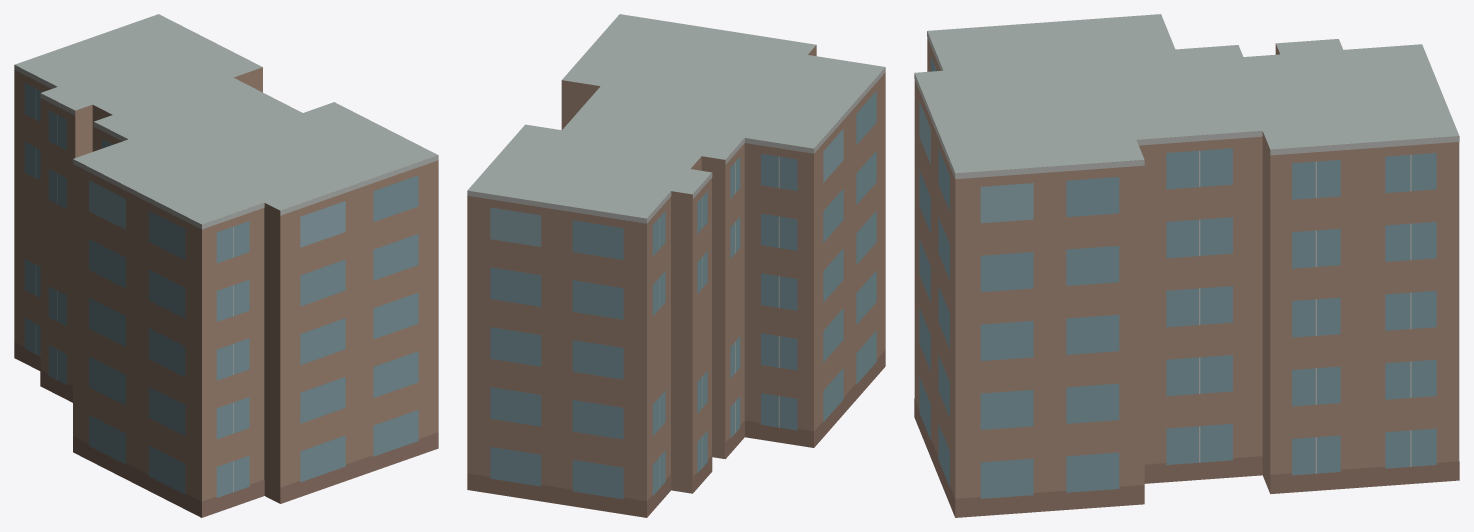
Rendered from survey-upis-32931713.glb.
The picture shows the model from 3 angles, left to right: view 1: azimuth 30°, elevation 25°; view 2: azimuth 150°, elevation 25°; view 3: azimuth 270°, elevation 25°; orthographic projection. The views are drawn at different scales.
Parts seen in each view (by area): view 1: survey-upis-32931713.tmp; view 2: survey-upis-32931713.tmp; view 3: survey-upis-32931713.tmp.
Boxes of the visible parts, <box> form: survey-upis-32931713.tmp: <box>14,14,438,517</box>; survey-upis-32931713.tmp: <box>467,14,885,517</box>; survey-upis-32931713.tmp: <box>914,14,1459,517</box>.
Size of the model in its own units: 14.2 by 14.3 by 20.51.
